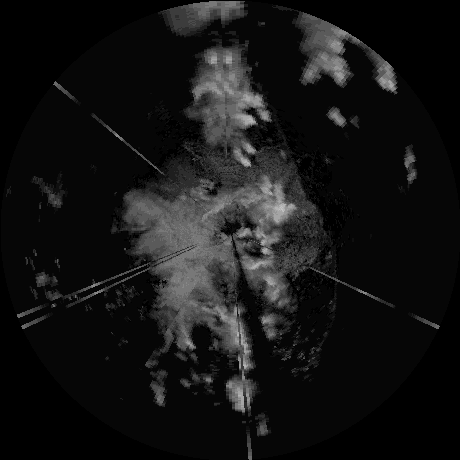frontgust: (311, 229, 342, 362)
